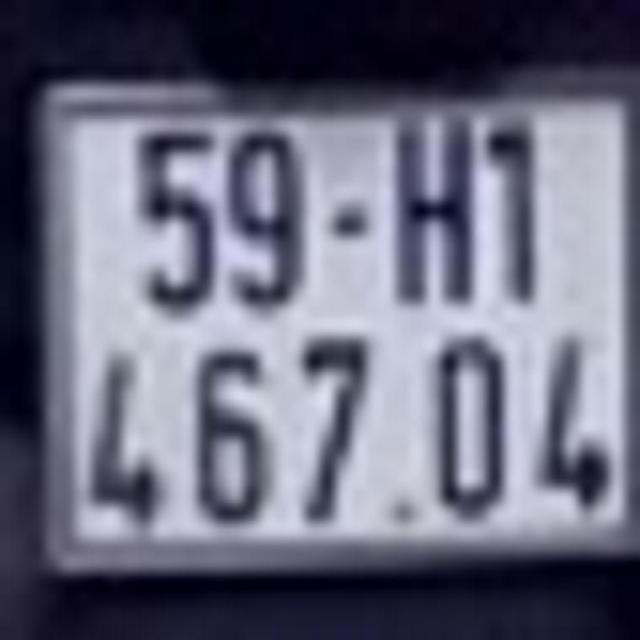0: (438, 332, 504, 524)
1: (487, 112, 547, 302)
4: (541, 326, 615, 511), (96, 350, 155, 520)
5: (140, 129, 213, 312)
6: (194, 348, 272, 522)
7: (300, 328, 368, 527)
9: (234, 120, 300, 311)
H: (396, 106, 472, 304)
